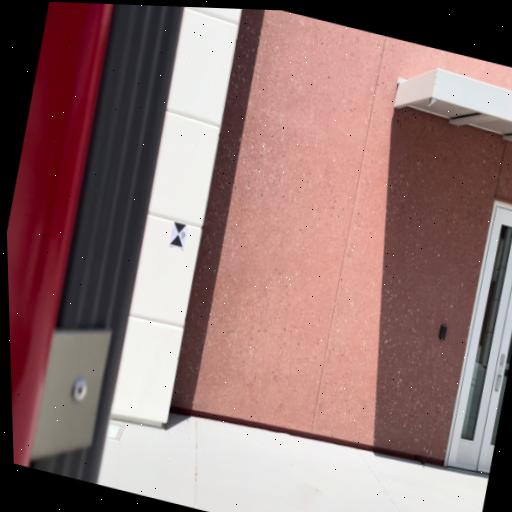target9: (169, 221, 187, 249)
